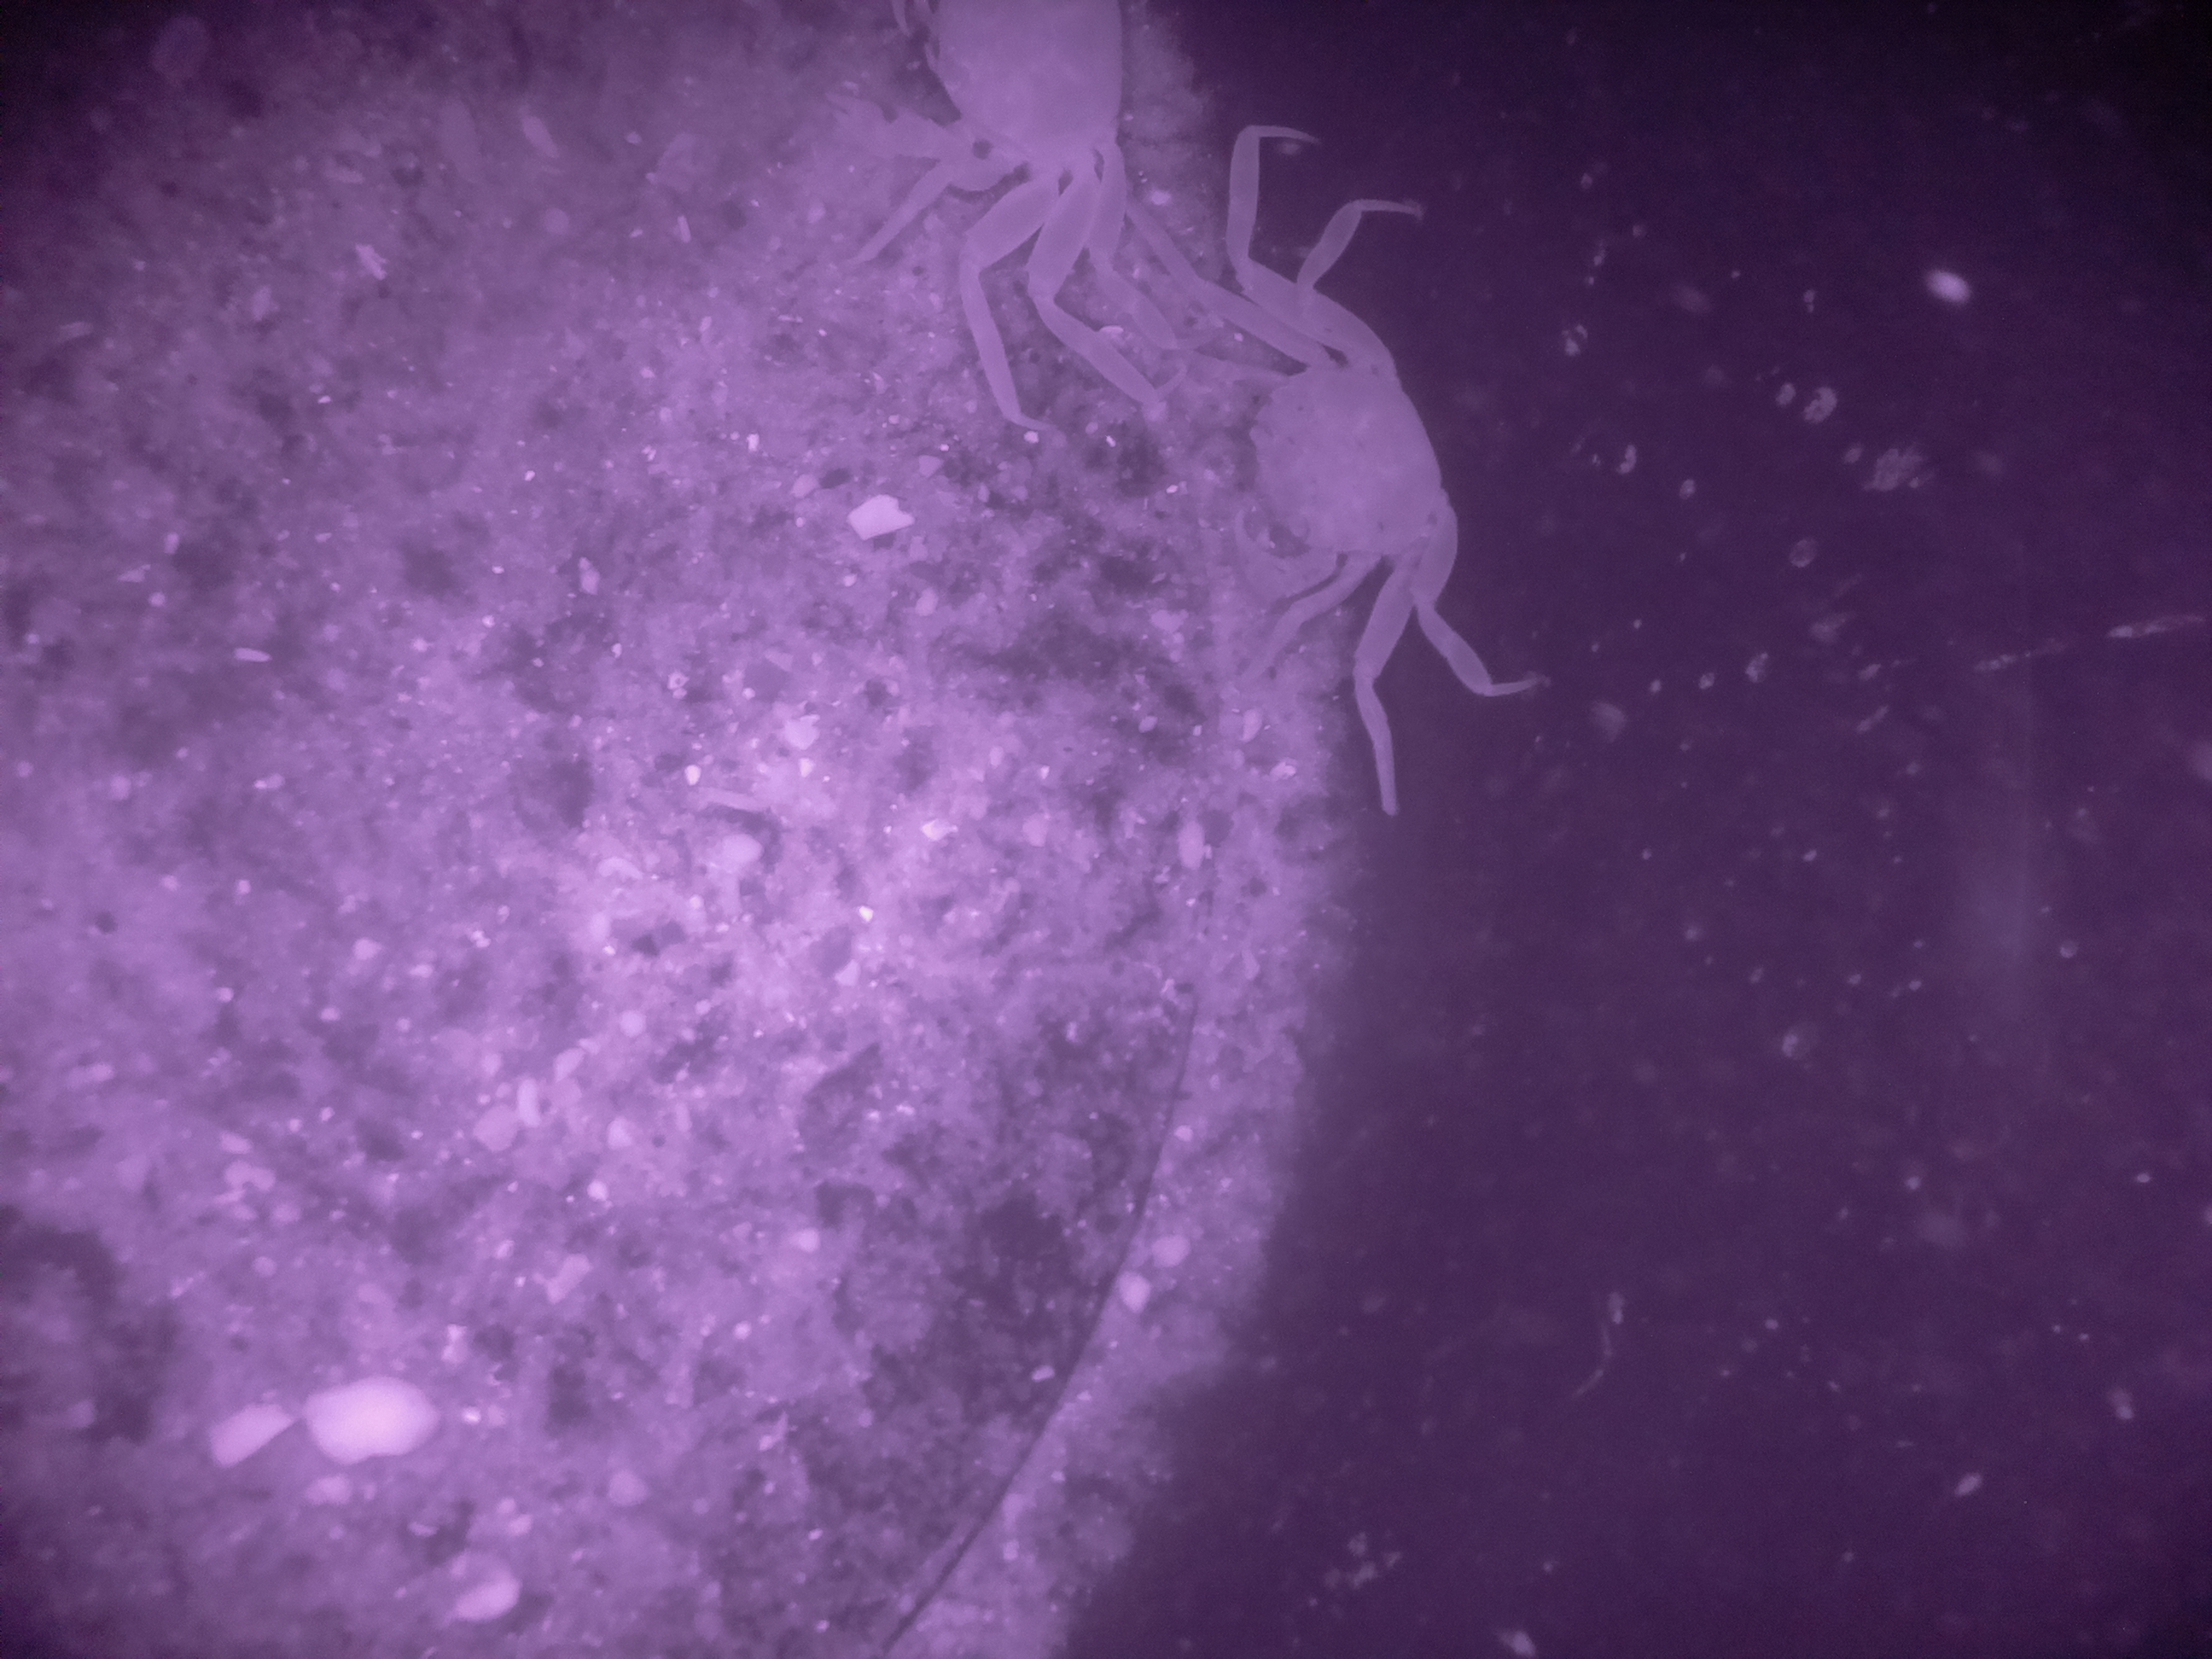Crab: (1148, 232, 1519, 718)
